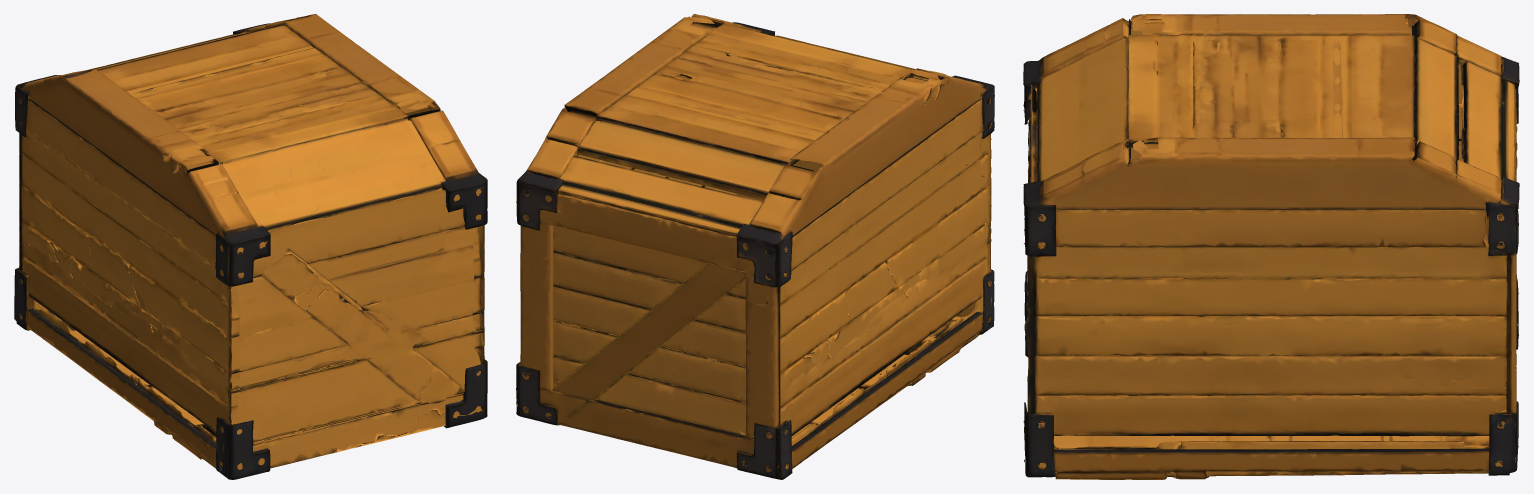
The model's file is lootcrate.glb.
3 views of the same model, side by side, from view 1: azimuth 30°, elevation 25°; view 2: azimuth 150°, elevation 25°; view 3: azimuth 270°, elevation 25° (orthographic). The views are drawn at different scales.
Visible parts, largest first — view 1: world; view 2: world; view 3: world.
Boxes of the visible parts, x1,y1,x2,y2 form: world: [14, 14, 487, 479]; world: [516, 14, 994, 479]; world: [1023, 14, 1519, 479].
Size of the model in its own units: 0.6868 by 0.7093 by 0.9818.
Materials: 1 (1 with a texture image).
